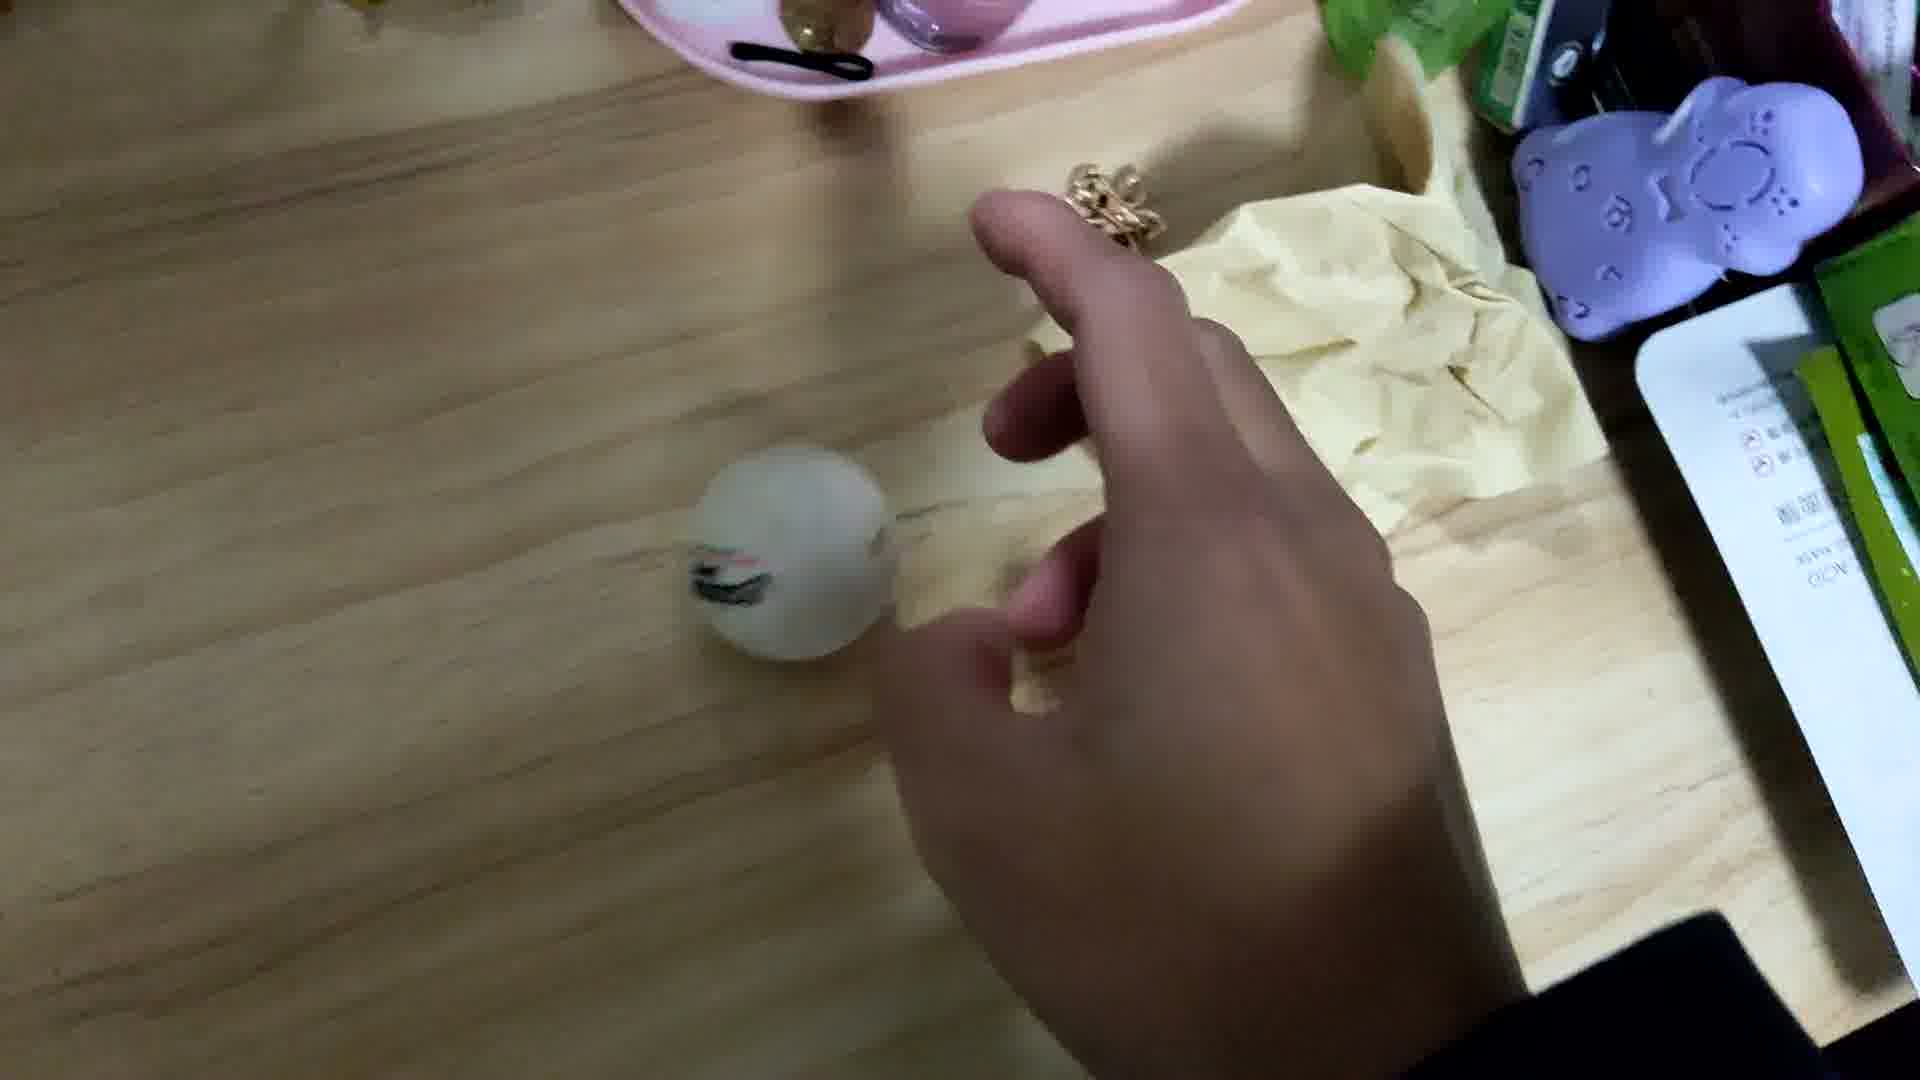Ball: (683, 433, 899, 671)
